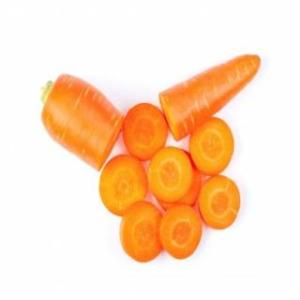carrot: (157, 52, 262, 142), (39, 70, 127, 174)
